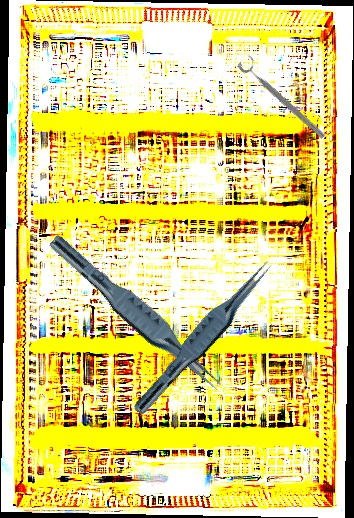Fixation Ring: (236, 52, 332, 142)
Tissue Forceps: (40, 232, 231, 396), (131, 252, 277, 424)
